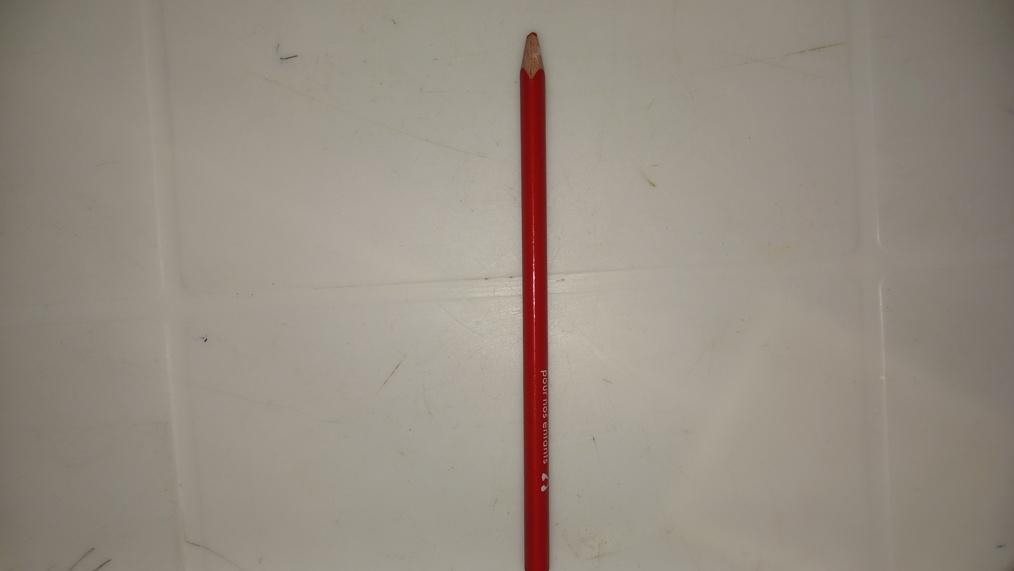Pencil: (521, 20, 548, 571)
